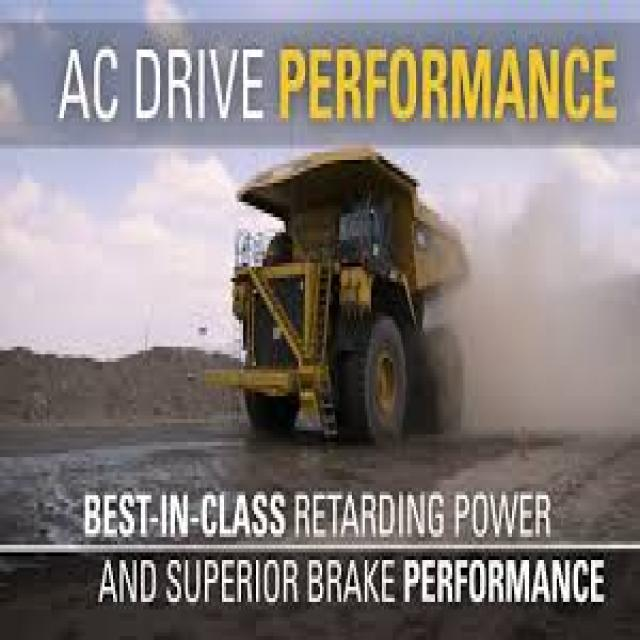dump_truck: (218, 133, 480, 465)
